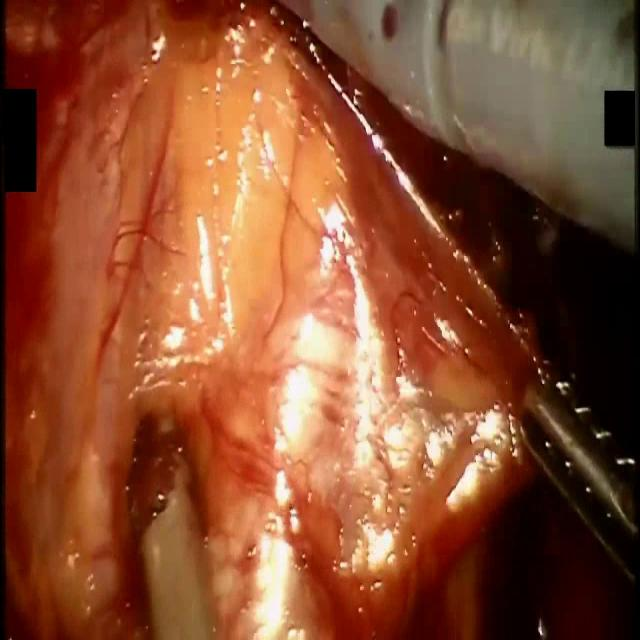surgical-area: (0, 0, 640, 639)
surgical-tool: (264, 0, 640, 253), (500, 311, 640, 598)
